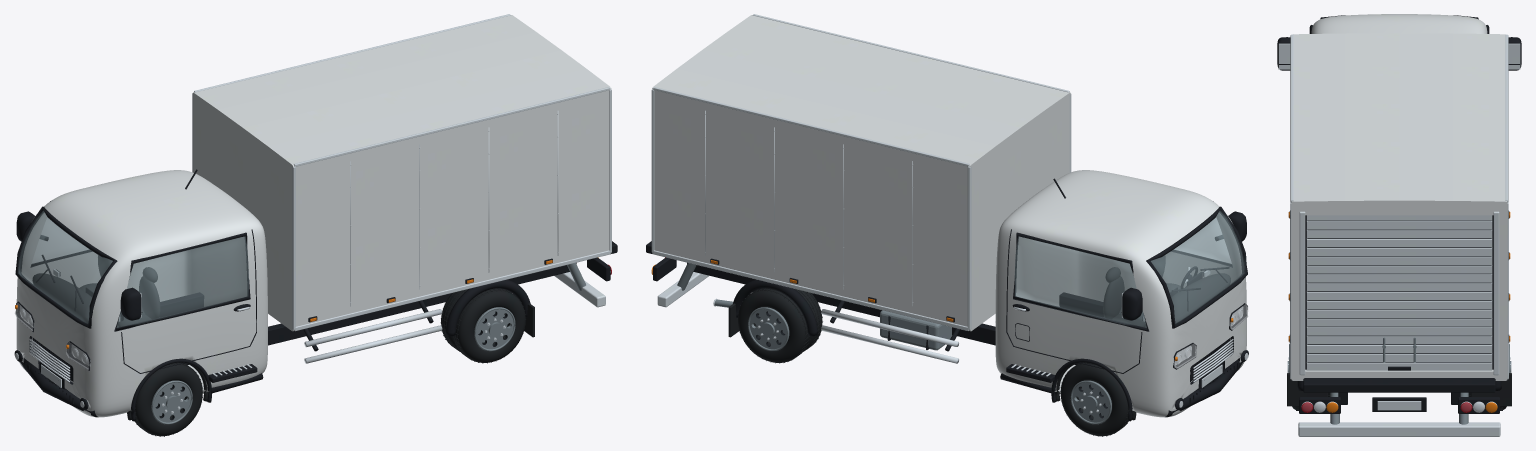
Rendered from truck.glb.
3 renders of one model, left to right at view 1: azimuth 30°, elevation 25°; view 2: azimuth 150°, elevation 25°; view 3: azimuth 270°, elevation 25°, orthographic. The views are drawn at different scales.
Visible parts, largest first — view 1: Forward-control truck hollow 12-station cab, Amber side marker black base, Truck cab door window curved transparent pane 1, Air vent surround, Circumferential truck tire tread, Dished steel commercial wheel, Cabin floor, Clear foglamp cover; view 2: Forward-control truck hollow 12-station cab, Amber side marker black base, Truck cab door window curved transparent pane 1, Air vent surround, Circumferential truck tire tread, Dished steel commercial wheel, Cabin floor, Clear foglamp cover; view 3: Forward-control truck hollow 12-station cab, Air vent surround, Amber side marker black base, Circumferential truck tire tread, Dished steel commercial wheel, Amber side marker reflective lens.
Part boxes in pixels (x1,y1,x2,y2): Forward-control truck hollow 12-station cab: (16, 15, 611, 417); Amber side marker black base: (14, 169, 617, 421); Truck cab door window curved transparent pane 1: (18, 211, 248, 327); Air vent surround: (15, 14, 611, 413); Circumferential truck tire tread: (73, 288, 534, 436); Dished steel commercial wheel: (41, 263, 585, 424); Cabin floor: (32, 255, 160, 327); Clear foglamp cover: (14, 261, 603, 407); Forward-control truck hollow 12-station cab: (652, 15, 1246, 417); Amber side marker black base: (646, 178, 1248, 421); Truck cab door window curved transparent pane 1: (1014, 210, 1244, 327); Air vent surround: (651, 14, 1248, 413); Circumferential truck tire tread: (728, 288, 1192, 436); Dished steel commercial wheel: (677, 263, 1221, 424); Cabin floor: (1103, 255, 1230, 327); Clear foglamp cover: (659, 261, 1248, 406); Forward-control truck hollow 12-station cab: (1291, 14, 1507, 380); Air vent surround: (1278, 34, 1520, 436); Amber side marker black base: (1277, 15, 1521, 413); Circumferential truck tire tread: (1287, 373, 1511, 410); Dished steel commercial wheel: (1287, 337, 1511, 424); Amber side marker reflective lens: (1288, 212, 1510, 412).
Size of the model in its own units: 7.39 by 3.31 by 2.73.
10 materials, 10 textured.
